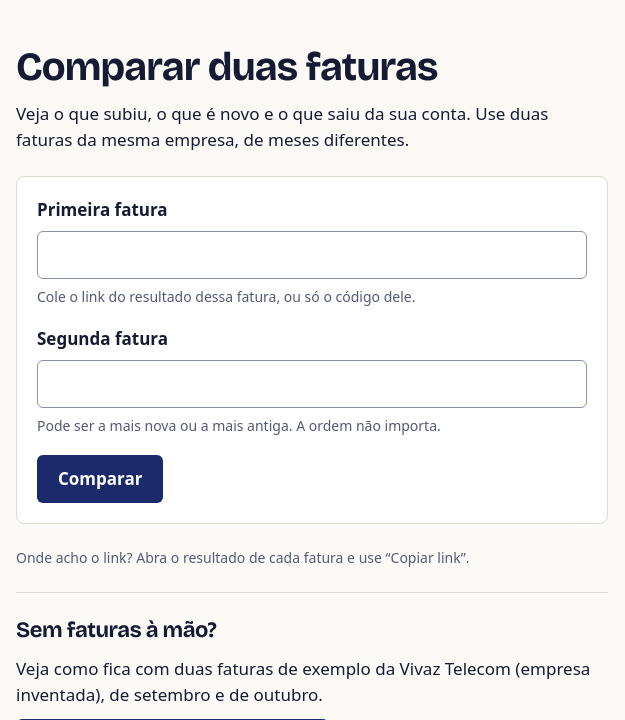
it: RF16: comparar faturas › mesmo mês de referência mostra "Envie faturas de meses diferentes"
The width and height of the screenshot is (625, 720).
Type "5b0e8f0e-3b8a-4f5e-9c1a-0a1b2c3d4e5f" into the field labelled "Primeira fatura".
click(312, 254); type("5b0e8f0e-3b8a-4f5e-9c1a-0a1b2c3d4e5f")  # box [37,230,587,278]
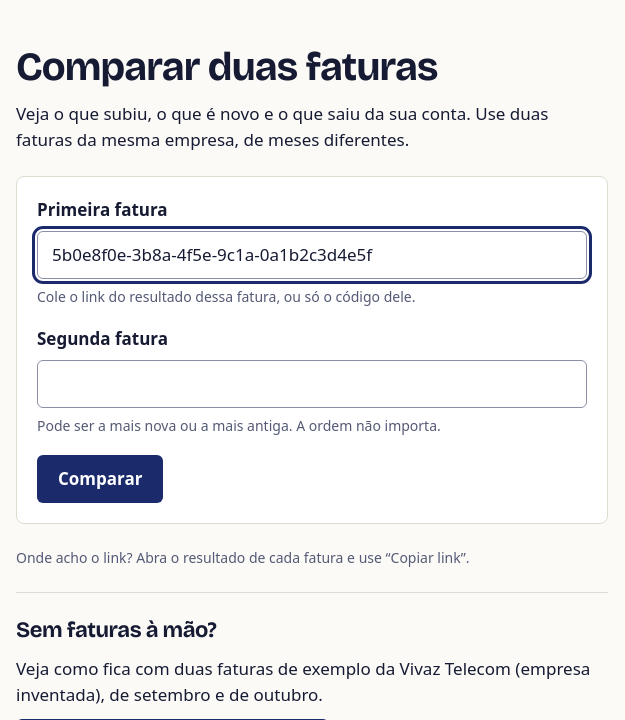
Type "5b0e8f0e-3b8a-4f5e-9c1a-0a1b2c3d4e5f" into the field labelled "Segunda fatura".
click(312, 384); type("5b0e8f0e-3b8a-4f5e-9c1a-0a1b2c3d4e5f")  # box [37,360,587,408]
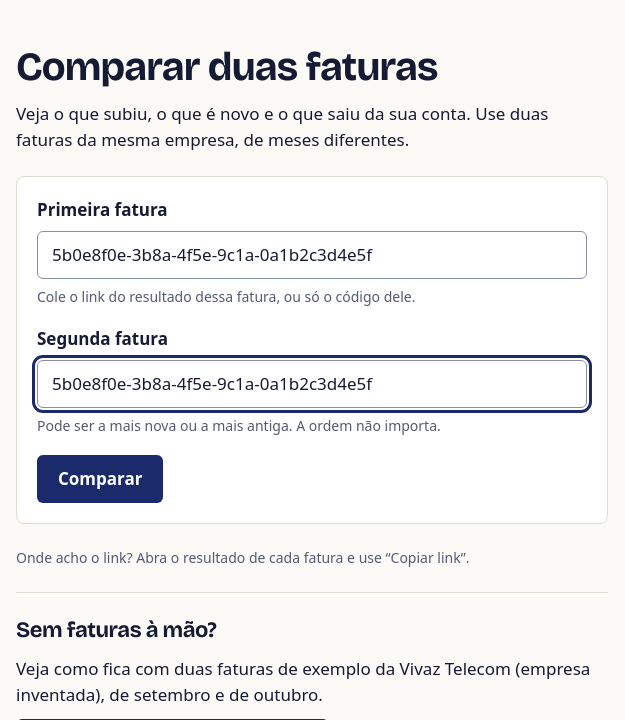
Click the button "Comparar".
click(100, 479)  # box [37,455,164,503]
(page scrolled)
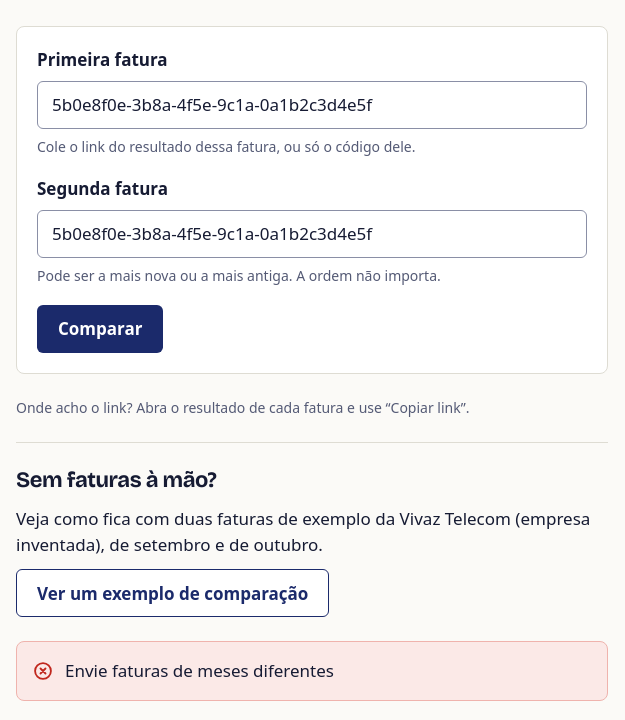
expect the message reads "Envie faturas de meses diferentes": met, box [65,659,334,682]
